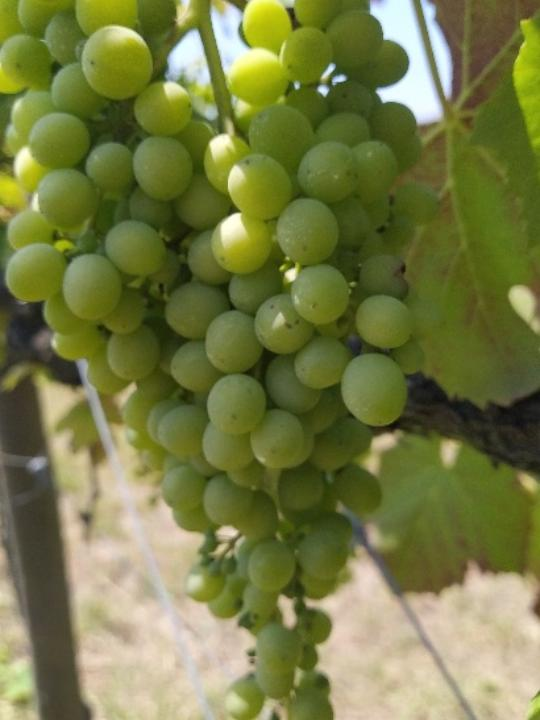grape: (0, 0, 421, 720)
